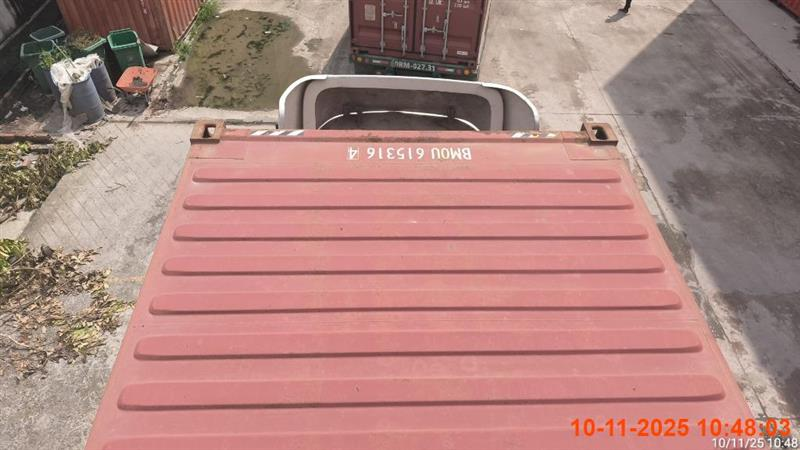rust: (84, 75, 766, 442)
